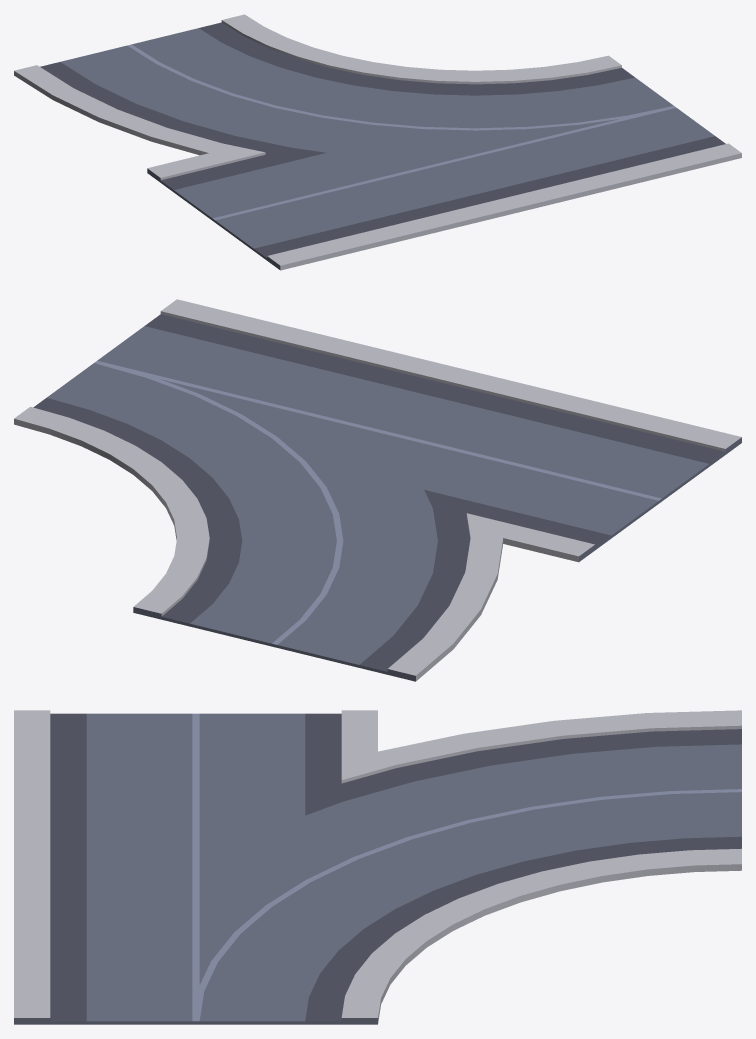
Rendered from Road Curve Intersection.glb.
3 renders of one model, top to bottom at view 1: azimuth 30°, elevation 25°; view 2: azimuth 150°, elevation 25°; view 3: azimuth 270°, elevation 25°, orthographic. The views are drawn at different scales.
Visible parts, largest first — view 1: road_curveIntersection; view 2: road_curveIntersection; view 3: road_curveIntersection.
Boxes of the visible parts, x1,y1,x2,y2 form: road_curveIntersection: [14, 14, 741, 270]; road_curveIntersection: [14, 299, 741, 681]; road_curveIntersection: [14, 710, 741, 1024].
Bounding box in the file's own units: 2 × 0.02 × 2.
